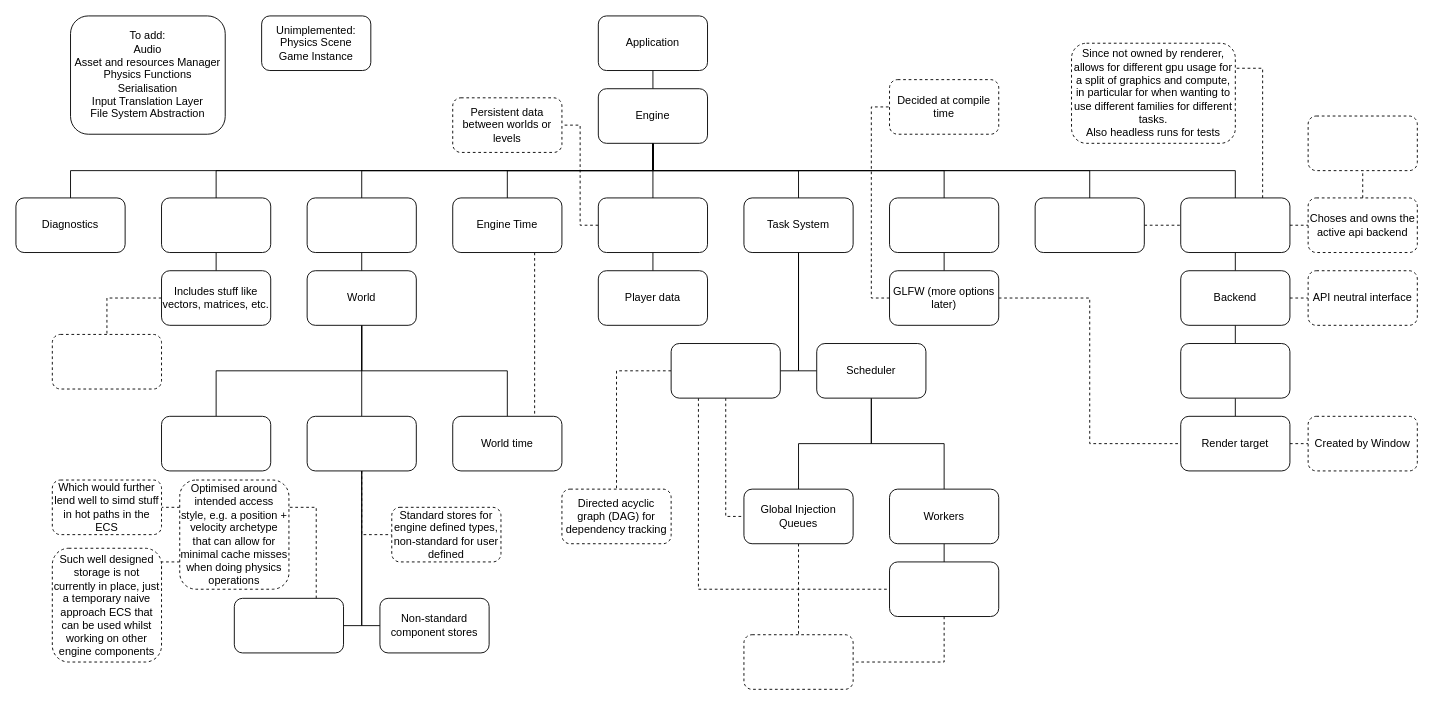
This 1433x705 diagram has some shape labels left out. The centre of each missing label's shape, as x and y in pixels:
"Can be changed at run time" goes at [1362,143].
"Context" goes at [1235,225].
"Different queues for different priority tasks" goes at [798,661].
"ECS" goes at [361,443].
"Game Instance" goes at [652,225].
"Local Dequeues" goes at [944,589].
"Maths - not architectural but types are provided as used in the engine" goes at [216,225].
"Maybe SIMD backed later in suitable parts, e.g. mat4" goes at [106,361].
"Physics Scene" goes at [216,443].
"Renderer" goes at [1089,225].
"Standard component stores" goes at [288,625].
"Task Graph" goes at [725,370].
"Vulkan (more options later)" goes at [1235,370].
"Window" goes at [944,225].
"World Context" goes at [361,225].
